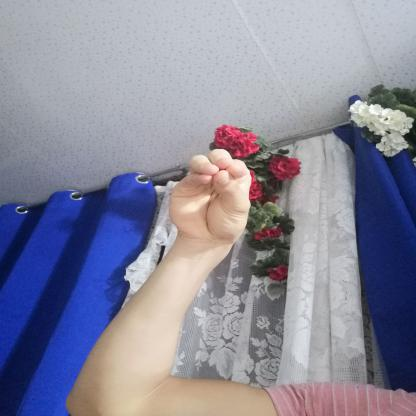HA: (150, 141, 268, 256)
